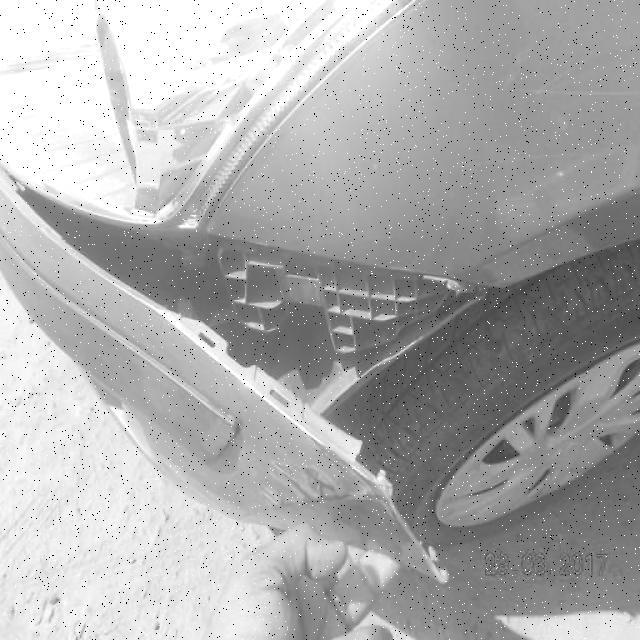car damage: (6, 177, 501, 575)
